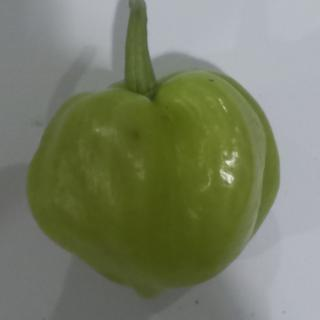Grade-B: (22, 60, 288, 302)
